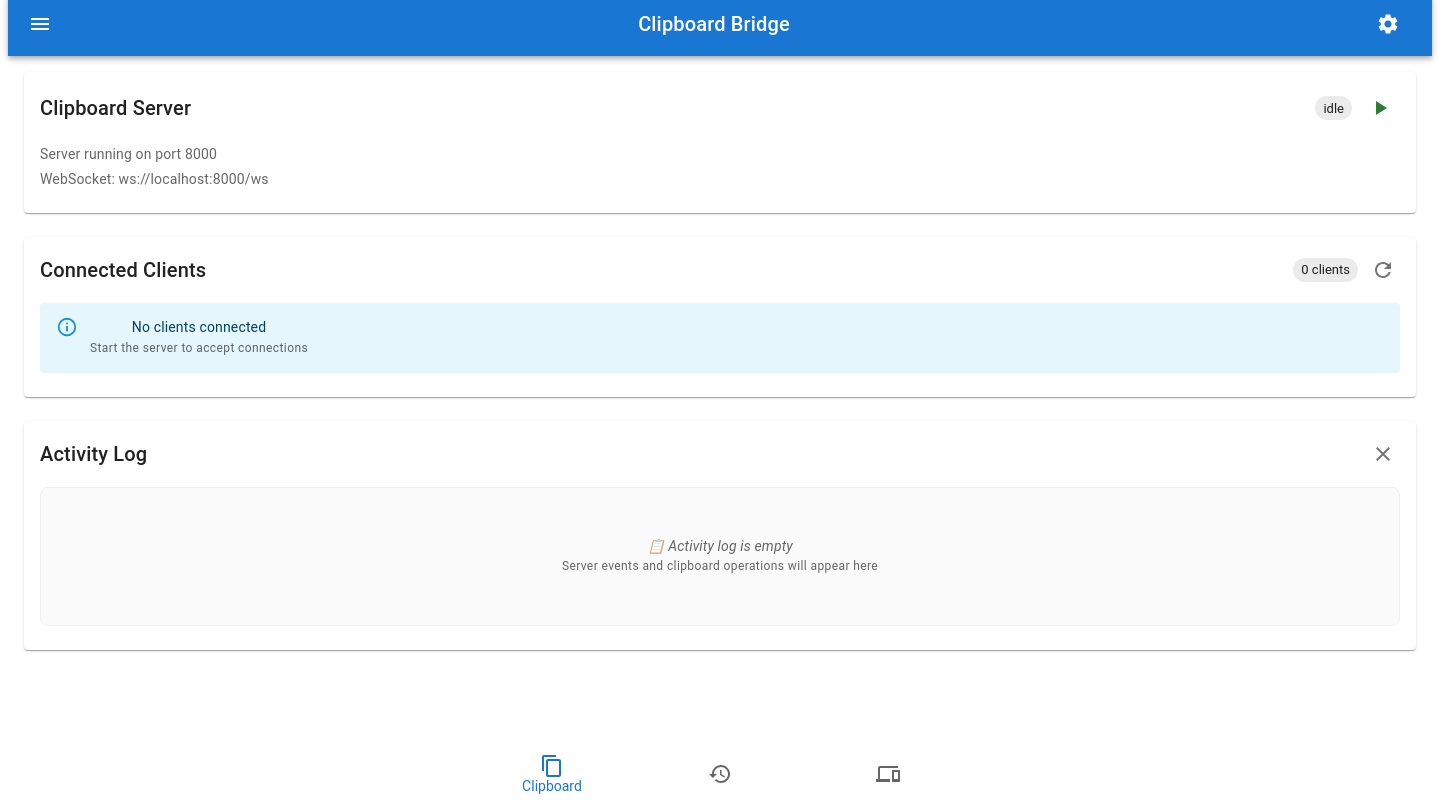
Test: App Component › displays device cards in devices tab
(page scrolled)
# Switch to devices tab
Click the 4th button "Devices". click: (888, 774)
box: [804,746,972,802]
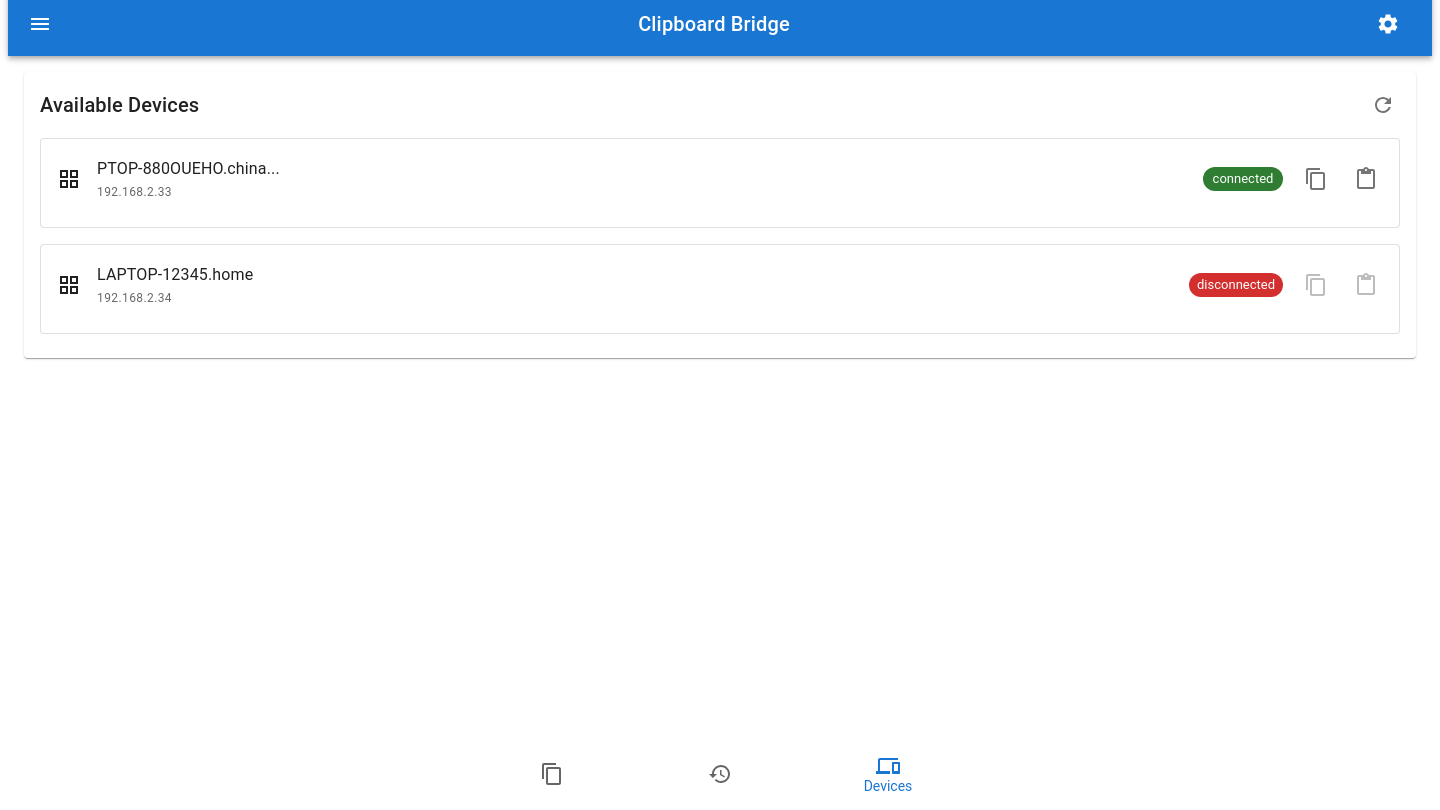
Check: the text "Devices" is shown, box [864,778,912,794]
